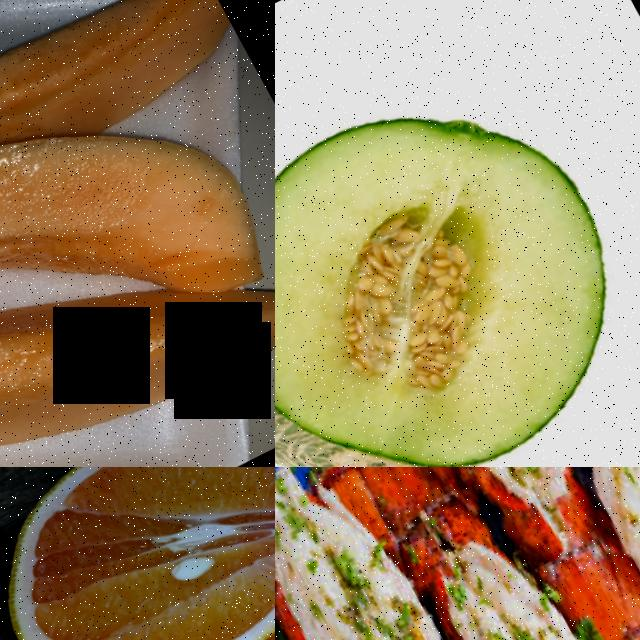lobster tails: (333, 467, 640, 640), (275, 467, 565, 640), (359, 467, 640, 640), (454, 467, 640, 640)
melon: (275, 36, 640, 467), (0, 15, 193, 373)
orange: (0, 467, 275, 640), (86, 571, 275, 640)
